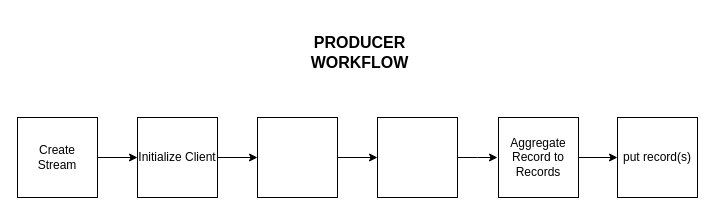
This 715x215 diagram has some shape labels left out. The shapes that lost their labels are listed below. From the top down, each one's box as (x1, y1, x2, y2) in pixels, then its label:
(256, 116, 338, 198): Generate Data
(376, 116, 458, 198): Convert Data to Record
